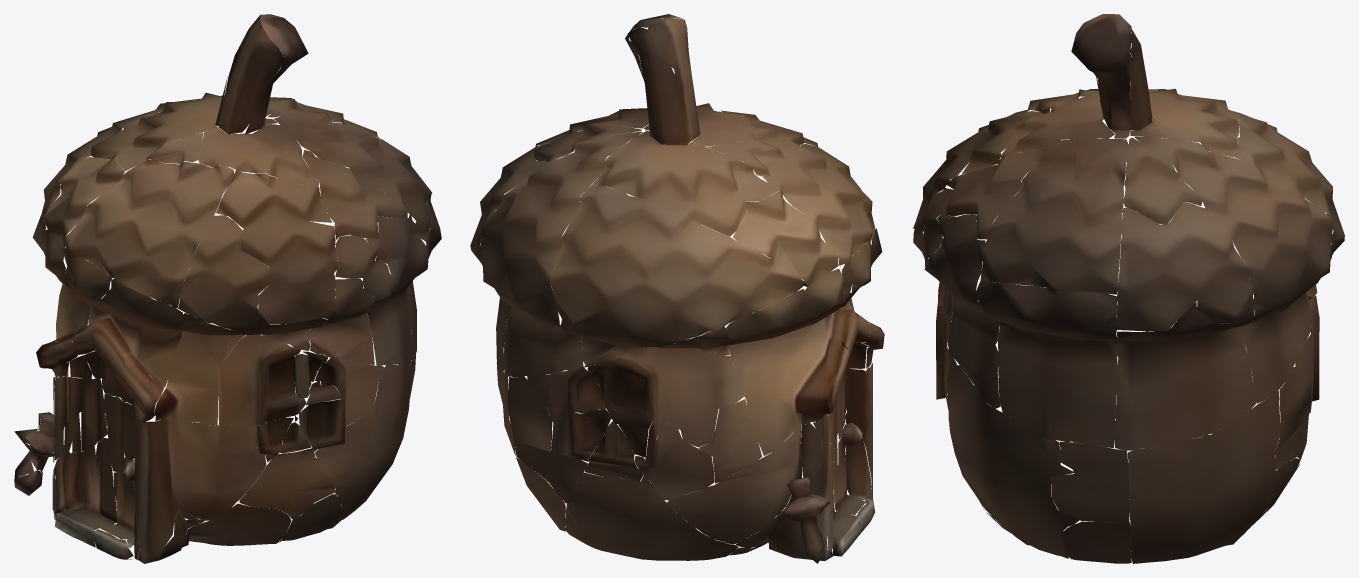
File: AcornHouse_lod.glb
3 renders of one model, left to right at view 1: azimuth 30°, elevation 25°; view 2: azimuth 150°, elevation 25°; view 3: azimuth 270°, elevation 25°, orthographic. The views are drawn at different scales.
Visible parts, largest first — view 1: tripo_node_9be2c303-7bf9-422f-b62f-2a1081b8792e; view 2: tripo_node_9be2c303-7bf9-422f-b62f-2a1081b8792e; view 3: tripo_node_9be2c303-7bf9-422f-b62f-2a1081b8792e.
Part boxes in pixels (x1=…): tripo_node_9be2c303-7bf9-422f-b62f-2a1081b8792e: x1=14, y1=14, x2=441, y2=563; tripo_node_9be2c303-7bf9-422f-b62f-2a1081b8792e: x1=470, y1=14, x2=884, y2=563; tripo_node_9be2c303-7bf9-422f-b62f-2a1081b8792e: x1=913, y1=14, x2=1344, y2=563.
Size of the model in its own units: 0.7673 by 0.9738 by 0.7523.
Materials: 1 (1 with a texture image).
